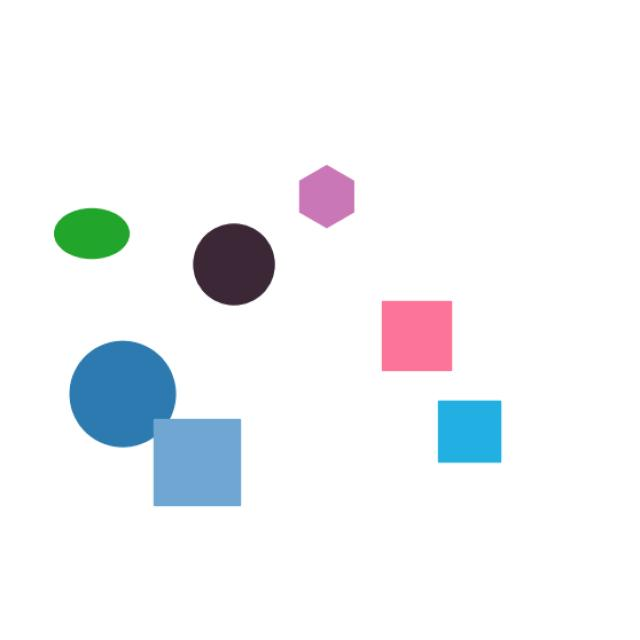Circle: (54, 333, 198, 458), (184, 222, 281, 306)
Hexagon: (292, 157, 367, 239)
Oval: (46, 197, 152, 275)
square: (130, 404, 252, 515), (362, 295, 484, 386), (426, 392, 522, 472)
